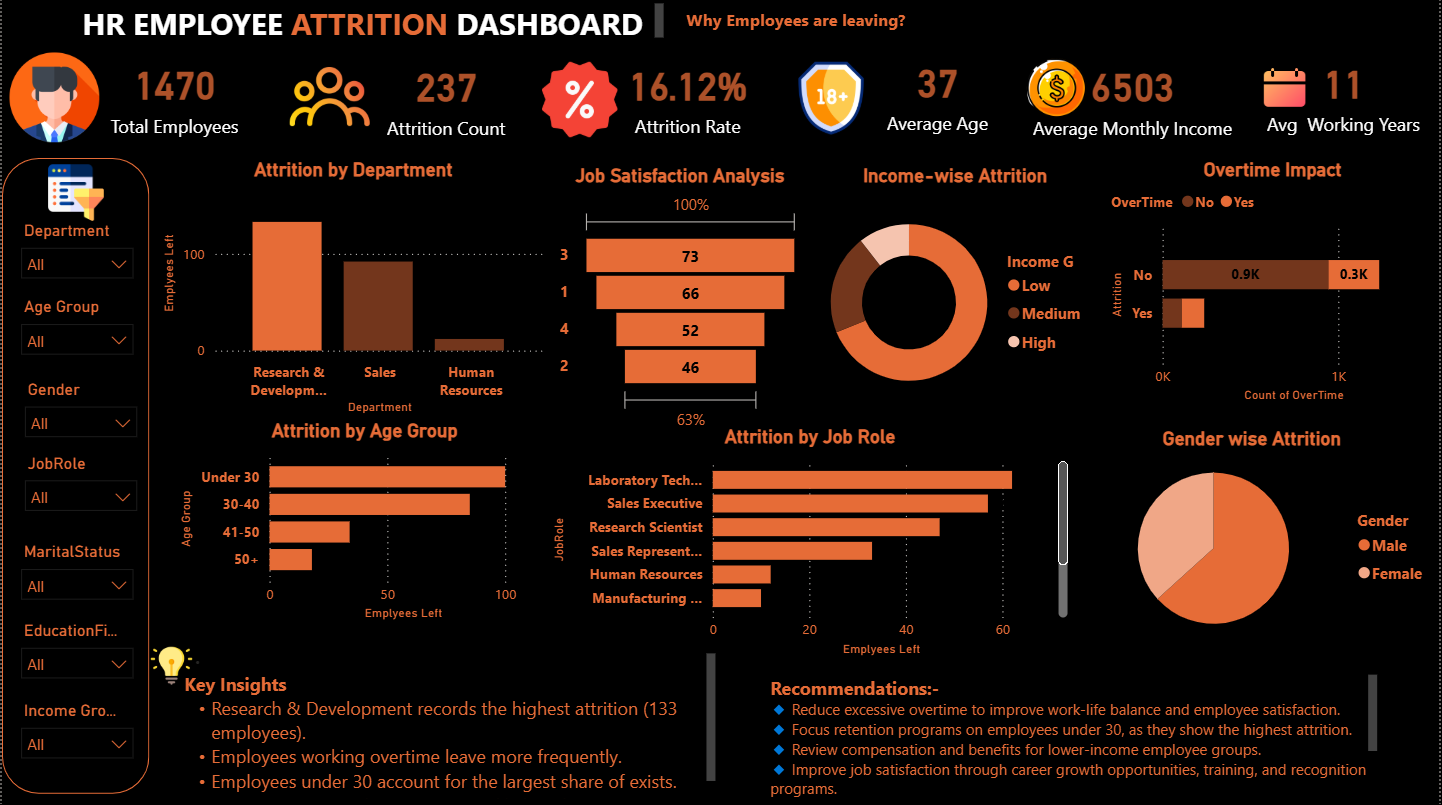

The page's visual inventory and layout, read from the dashboard file:
{"tool":"powerbi","page":{"name":"Page 1","canvas":[1280,720],"ordinal":0},"visuals":[{"type":"barChart","title":"Overtime Impact","fields":{"Category":["WA_Fn-UseC_-HR-Employee-Attrition.Attrition"],"Y":["CountNonNull(HR DATASET.OverTime)"],"Series":["HR DATASET.OverTime"]},"box":[982.5,142.5,297.5,222.5],"z":0},{"type":"clusteredColumnChart","title":"Attrition by Department","fields":{"Category":["WA_Fn-UseC_-HR-Employee-Attrition.Department"],"Y":["HR DATASET.Emplyees Left"]},"box":[137.5,142.5,350,232.5],"z":1000},{"type":"clusteredBarChart","title":"Attrition by Age Group","fields":{"Category":["HR DATASET.Age Group"],"Y":["HR DATASET.Emplyees Left"]},"box":[153.4,375.5,338.7,184.1],"z":2000},{"type":"funnel","title":"Job Satisfaction Analysis ","fields":{"Category":["HR DATASET.JobSatisfaction"],"Y":["HR DATASET.Emplyees Left"]},"box":[492.5,147.5,223.8,242.5],"z":3000},{"type":"pieChart","title":" Gender wise Attrition","fields":{"Category":["HR DATASET.Gender"],"Y":["HR DATASET.Emplyees Left"]},"box":[946,381.6,333.7,197.5],"z":4000},{"type":"clusteredBarChart","title":"Attrition by Job Role","fields":{"Category":["HR DATASET.JobRole"],"Y":["HR DATASET.Emplyees Left"]},"box":[485,381.2,468.8,210],"z":5000},{"type":"card","fields":{"Values":["Count(HR DATASET.EmployeeNumber)"]},"box":[70,43.8,167.5,86.2],"z":6000},{"type":"image","box":[8.8,43.8,37.5,43.8],"z":7000},{"type":"image","box":[6.2,25,80,127.5],"z":8000},{"type":"card","fields":{"Values":["HR DATASET.Attrition Count"]},"box":[232.5,13.8,326.2,150],"z":9000},{"type":"image","box":[253.8,33.8,76.2,108.8],"z":11000},{"type":"card","fields":{"Values":["HR DATASET.Attrition Rate"]},"box":[415,12.5,391.2,150],"z":12000},{"type":"image","box":[481.2,51.2,67.5,78.8],"z":14000},{"type":"card","fields":{"Values":["Avg(HR DATASET.Age)"]},"box":[685,3.8,297.5,162.5],"z":15000},{"type":"image","box":[703.8,56.2,70,65],"z":17000},{"type":"card","fields":{"Values":["Avg(HR DATASET.MonthlyIncome)"]},"box":[903.8,3.8,206.2,170],"z":18000},{"type":"image","box":[896.2,28.8,86.2,101.2],"z":20000},{"type":"card","fields":{"Values":["Avg(HR DATASET.TotalWorkingYears)"]},"box":[1110,0,170,170],"z":21000},{"type":"image","box":[1121.2,51.2,42.5,56.2],"z":23000},{"type":"donutChart","title":"Income-wise Attrition ","fields":{"Category":["HR DATASET.Income Group"],"Y":["HR DATASET.Attrition Count"]},"box":[716.2,147.5,266.2,227.5],"z":24000},{"type":"textbox","box":[604.9,4.9,424.5,40.5],"z":25000},{"type":"shape","box":[0,142.5,131.2,566.2],"z":27000},{"type":"slicer","fields":{"Values":["HR DATASET.Department"]},"box":[6.2,193.8,120,60],"z":28000},{"type":"slicer","fields":{"Values":["HR DATASET.Age Group"]},"box":[6.2,261.2,120,60],"z":29000},{"type":"image","box":[37.5,147.5,56.2,50],"z":30000},{"type":"slicer","fields":{"Values":["HR DATASET.Gender"]},"box":[10,335,120,60],"z":31000},{"type":"slicer","fields":{"Values":["HR DATASET.JobRole"]},"box":[10,401.2,120,60],"z":32000},{"type":"slicer","fields":{"Values":["HR DATASET.MaritalStatus"]},"box":[6.2,480,120,60],"z":33000},{"type":"slicer","fields":{"Values":["HR DATASET.EducationField"]},"box":[6.2,550,120,60],"z":34000},{"type":"slicer","fields":{"Values":["HR DATASET.Income Group"]},"box":[6.2,621.2,120,60],"z":35000},{"type":"textbox","box":[157.1,579.1,483.4,138.7],"z":36000},{"type":"image","box":[131.3,559.5,39.3,69.9],"z":37000},{"type":"textbox","box":[678.5,597.5,550.9,120.2],"z":38000},{"type":"textbox","box":[66.2,0,527.5,42.5],"z":39000}]}

Visuals, with their boxes in screenshot pixels (x1, y1, x2, y2), scaled from the page's 1280x720 canvas onto the 1442x805 screenshot:
"Overtime Impact" barChart: box=[1107, 159, 1441, 408]
"Attrition by Department" clusteredColumnChart: box=[155, 159, 549, 419]
"Attrition by Age Group" clusteredBarChart: box=[173, 420, 554, 626]
"Job Satisfaction Analysis " funnel: box=[555, 165, 807, 436]
" Gender wise Attrition" pieChart: box=[1066, 427, 1441, 647]
"Attrition by Job Role" clusteredBarChart: box=[546, 426, 1075, 661]
card - Count(HR DATASET.EmployeeNumber): box=[79, 49, 268, 145]
image: box=[10, 49, 52, 98]
image: box=[7, 28, 97, 171]
card - HR DATASET.Attrition Count: box=[262, 15, 629, 183]
image: box=[286, 38, 372, 159]
card - HR DATASET.Attrition Rate: box=[468, 14, 908, 182]
image: box=[542, 57, 618, 145]
card - Avg(HR DATASET.Age): box=[772, 4, 1107, 186]
image: box=[793, 63, 872, 136]
card - Avg(HR DATASET.MonthlyIncome): box=[1018, 4, 1250, 194]
image: box=[1010, 32, 1107, 145]
card - Avg(HR DATASET.TotalWorkingYears): box=[1250, 0, 1441, 190]
image: box=[1263, 57, 1311, 120]
"Income-wise Attrition " donutChart: box=[807, 165, 1107, 419]
textbox: box=[681, 5, 1160, 51]
shape: box=[0, 159, 148, 792]
slicer - HR DATASET.Department: box=[7, 217, 142, 284]
slicer - HR DATASET.Age Group: box=[7, 292, 142, 359]
image: box=[42, 165, 106, 221]
slicer - HR DATASET.Gender: box=[11, 375, 146, 442]
slicer - HR DATASET.JobRole: box=[11, 449, 146, 516]
slicer - HR DATASET.MaritalStatus: box=[7, 537, 142, 604]
slicer - HR DATASET.EducationField: box=[7, 615, 142, 682]
slicer - HR DATASET.Income Group: box=[7, 695, 142, 762]
textbox: box=[177, 647, 722, 803]
image: box=[148, 626, 192, 704]
textbox: box=[764, 668, 1385, 802]
textbox: box=[75, 0, 669, 48]
